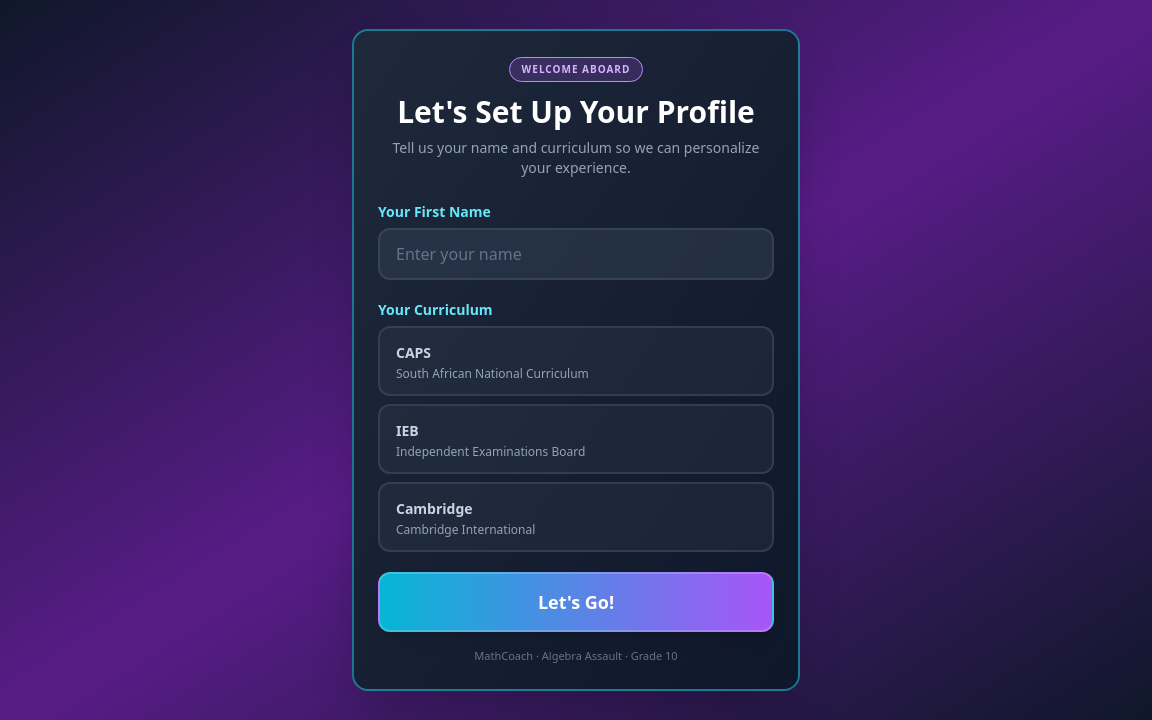
OnboardingScreen component › shows name validation error on empty submit
Click the button "Let's Go!". click: (576, 602)
box: [378,572,774,632]
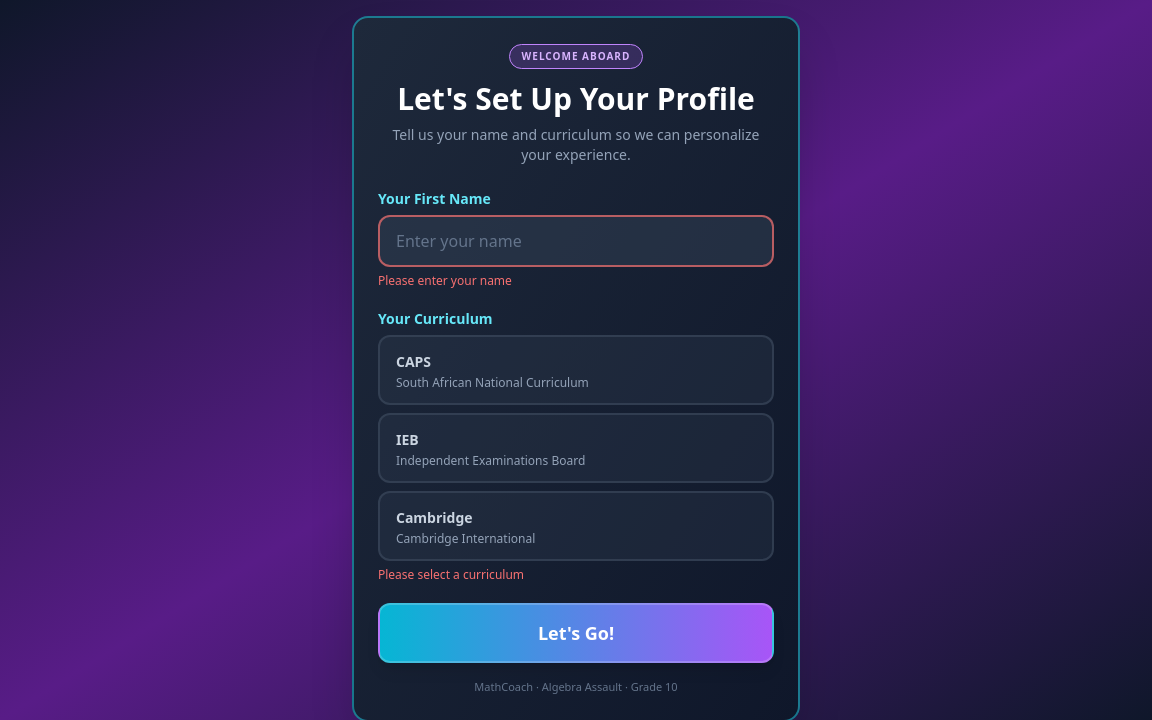
Expected: the text "Please enter your name" is shown, [378,272,512,289]
